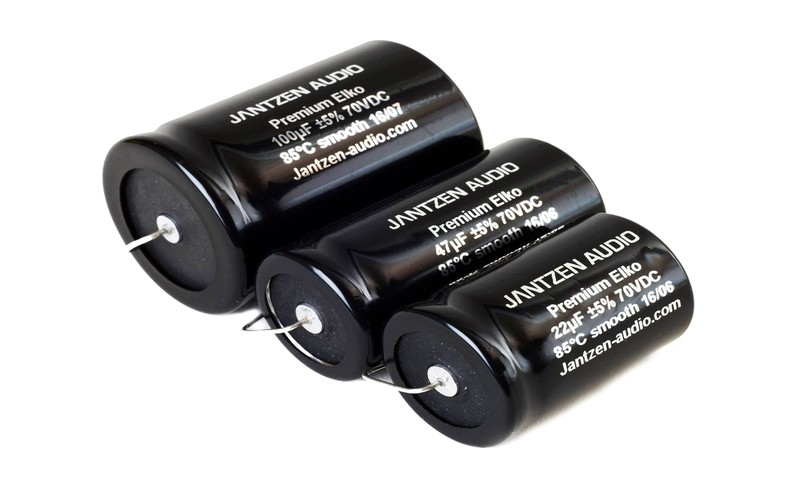Capacitor: (75, 29, 718, 459)
